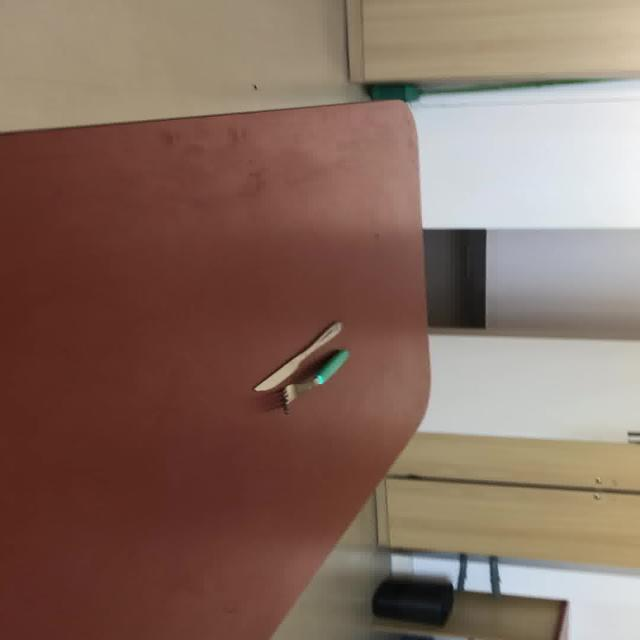fork: (278, 348, 349, 415)
knife fork: (250, 319, 342, 392)
